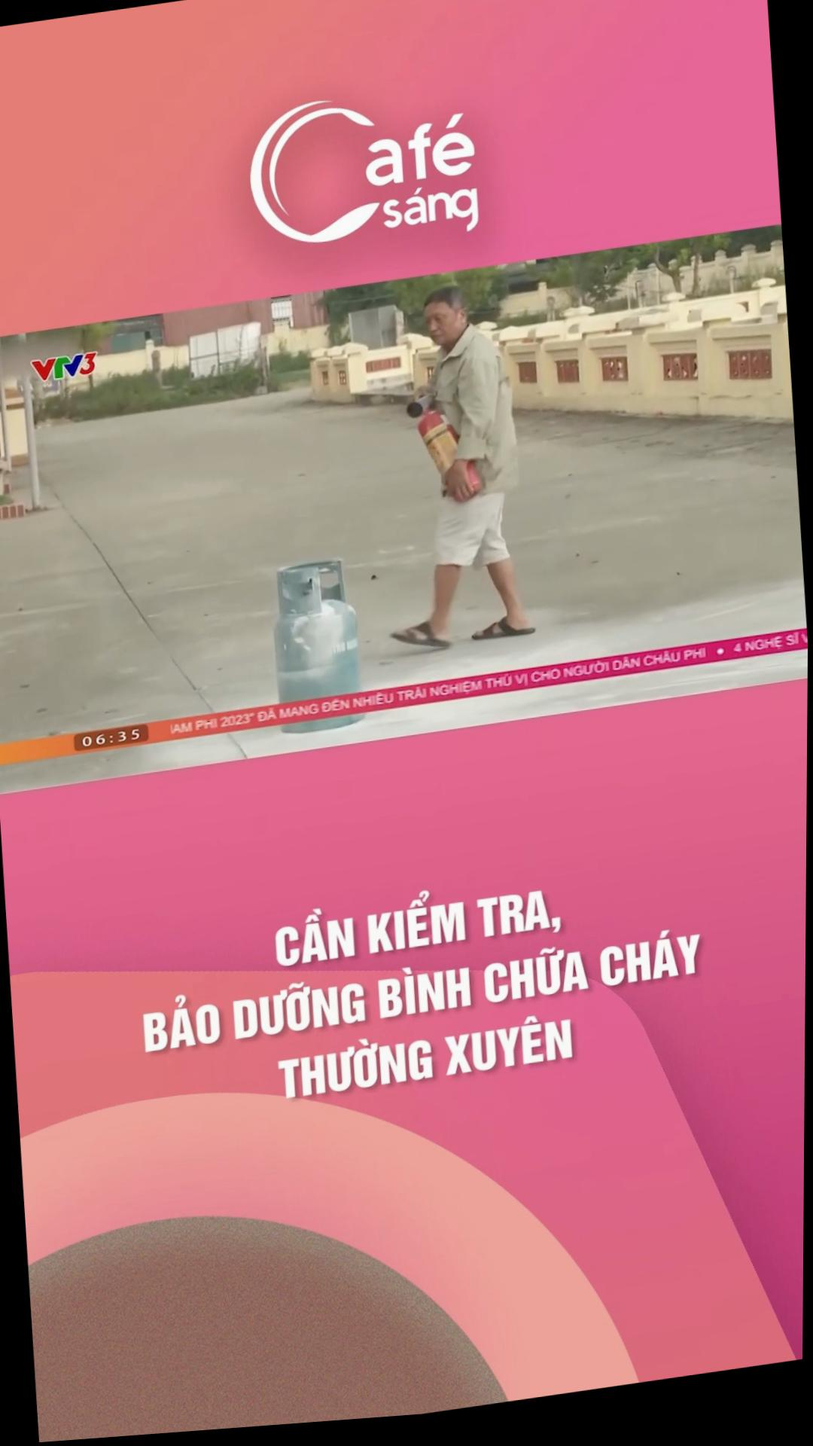FireExtinguisher: (406, 395, 492, 529)
